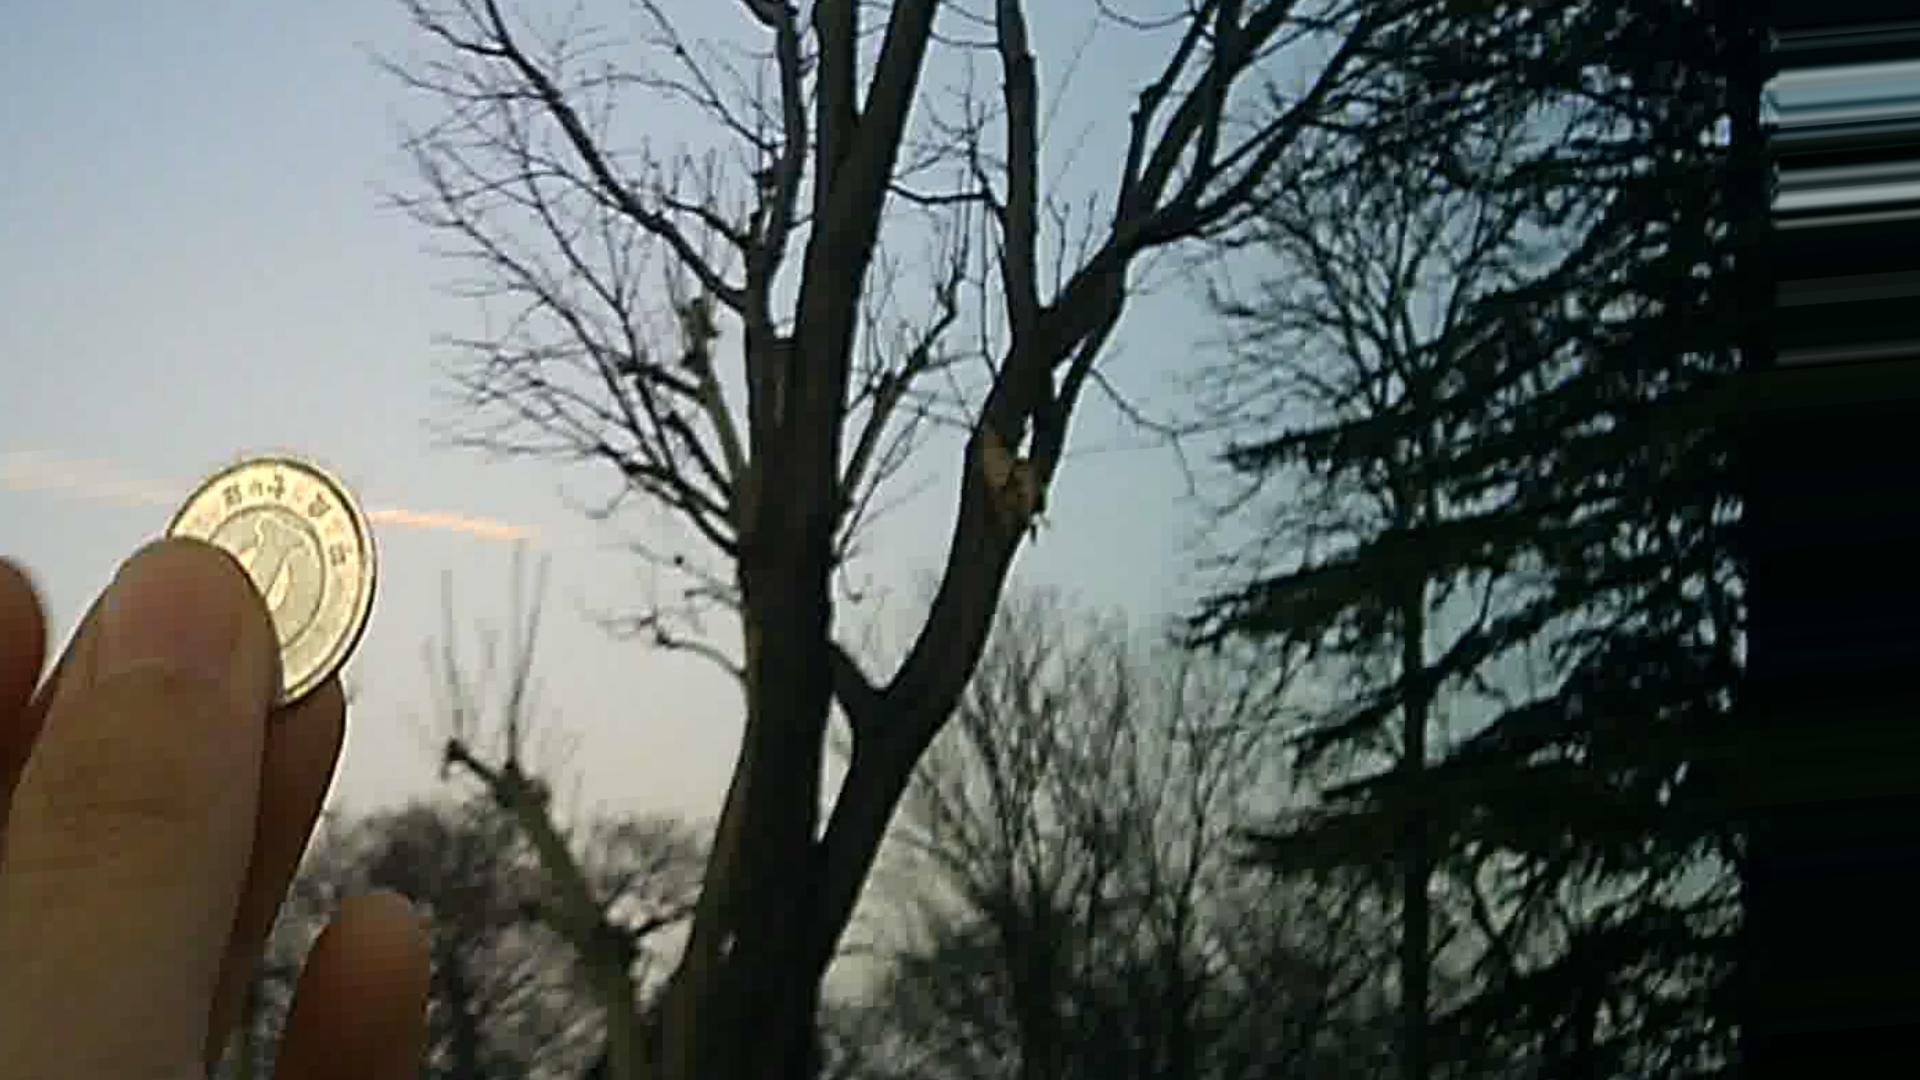1 Yen: (142, 444, 382, 736)
